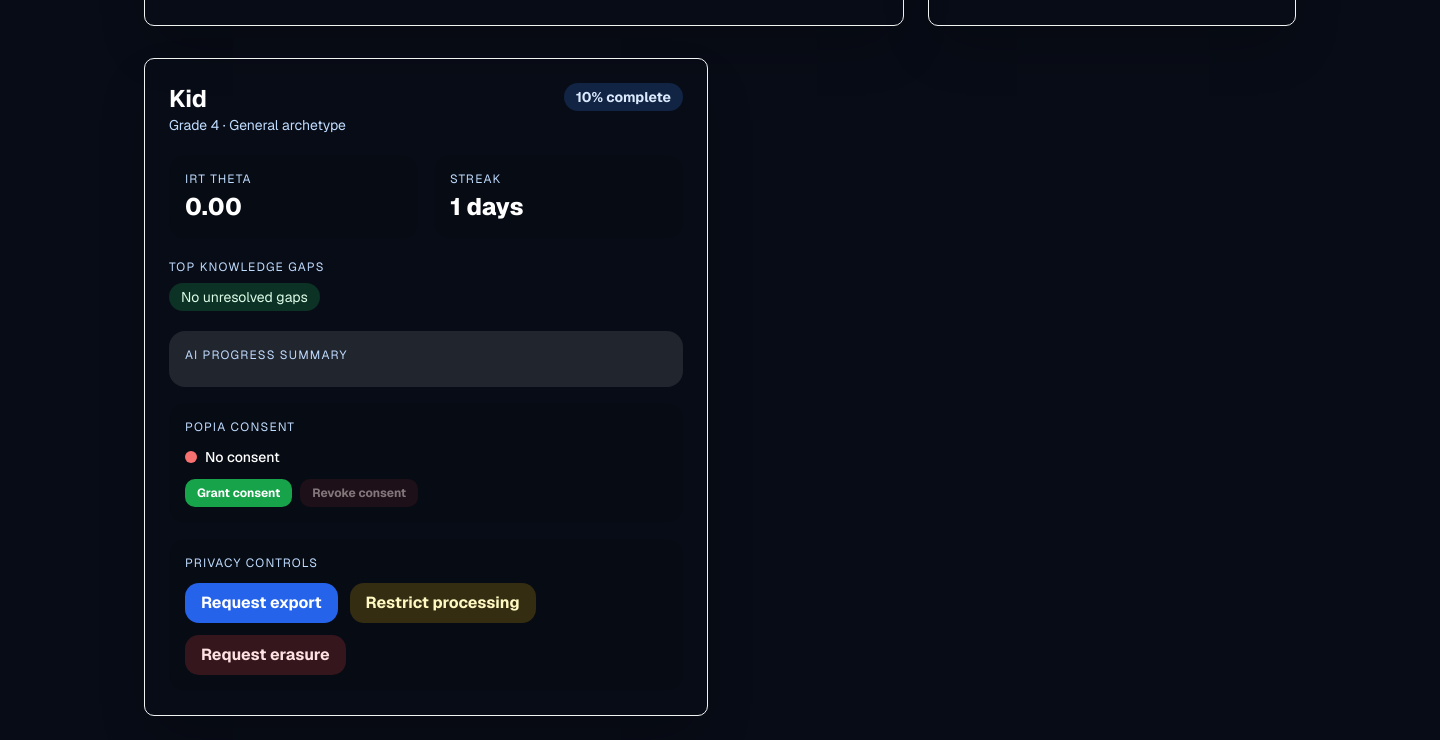
Test case: restrict processing updates privacy status
(page scrolled)
Click the button "Restrict processing": coordinates (443, 602) left=350, top=582, right=536, bottom=622
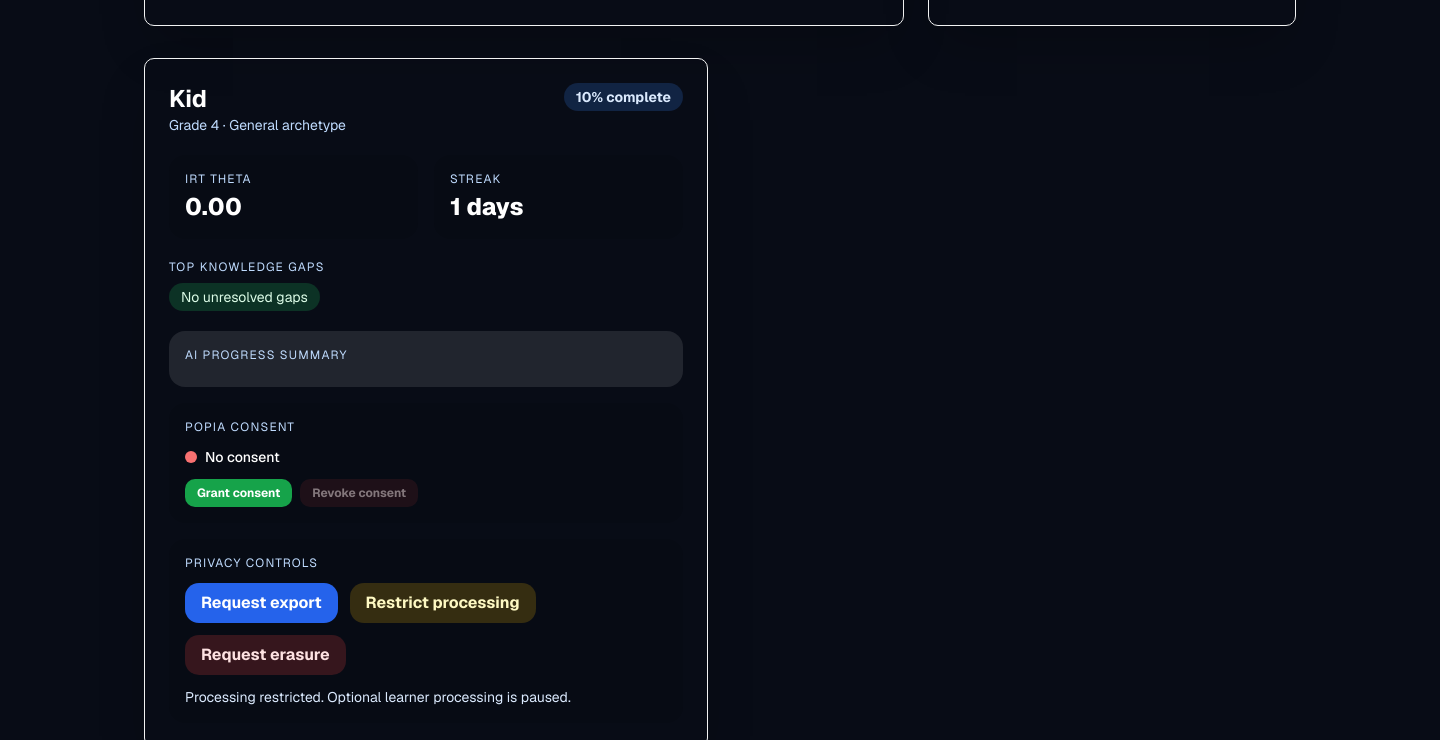
Expected: the text "Processing restricted. Optional learner processing is paused." is shown, left=185, top=688, right=571, bottom=706
